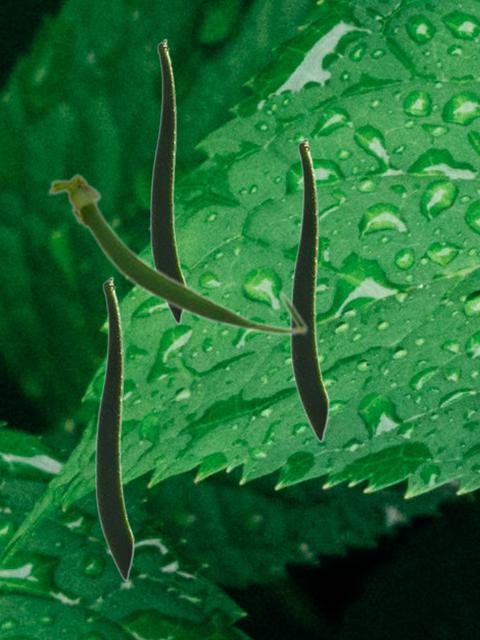french_bean: (46, 171, 308, 336), (289, 137, 329, 442), (94, 276, 134, 581), (149, 38, 186, 324)
